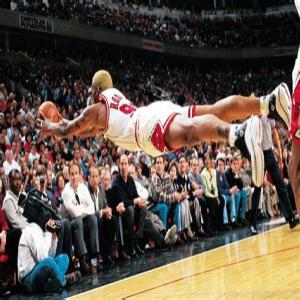Basket: (36, 100, 59, 138)
